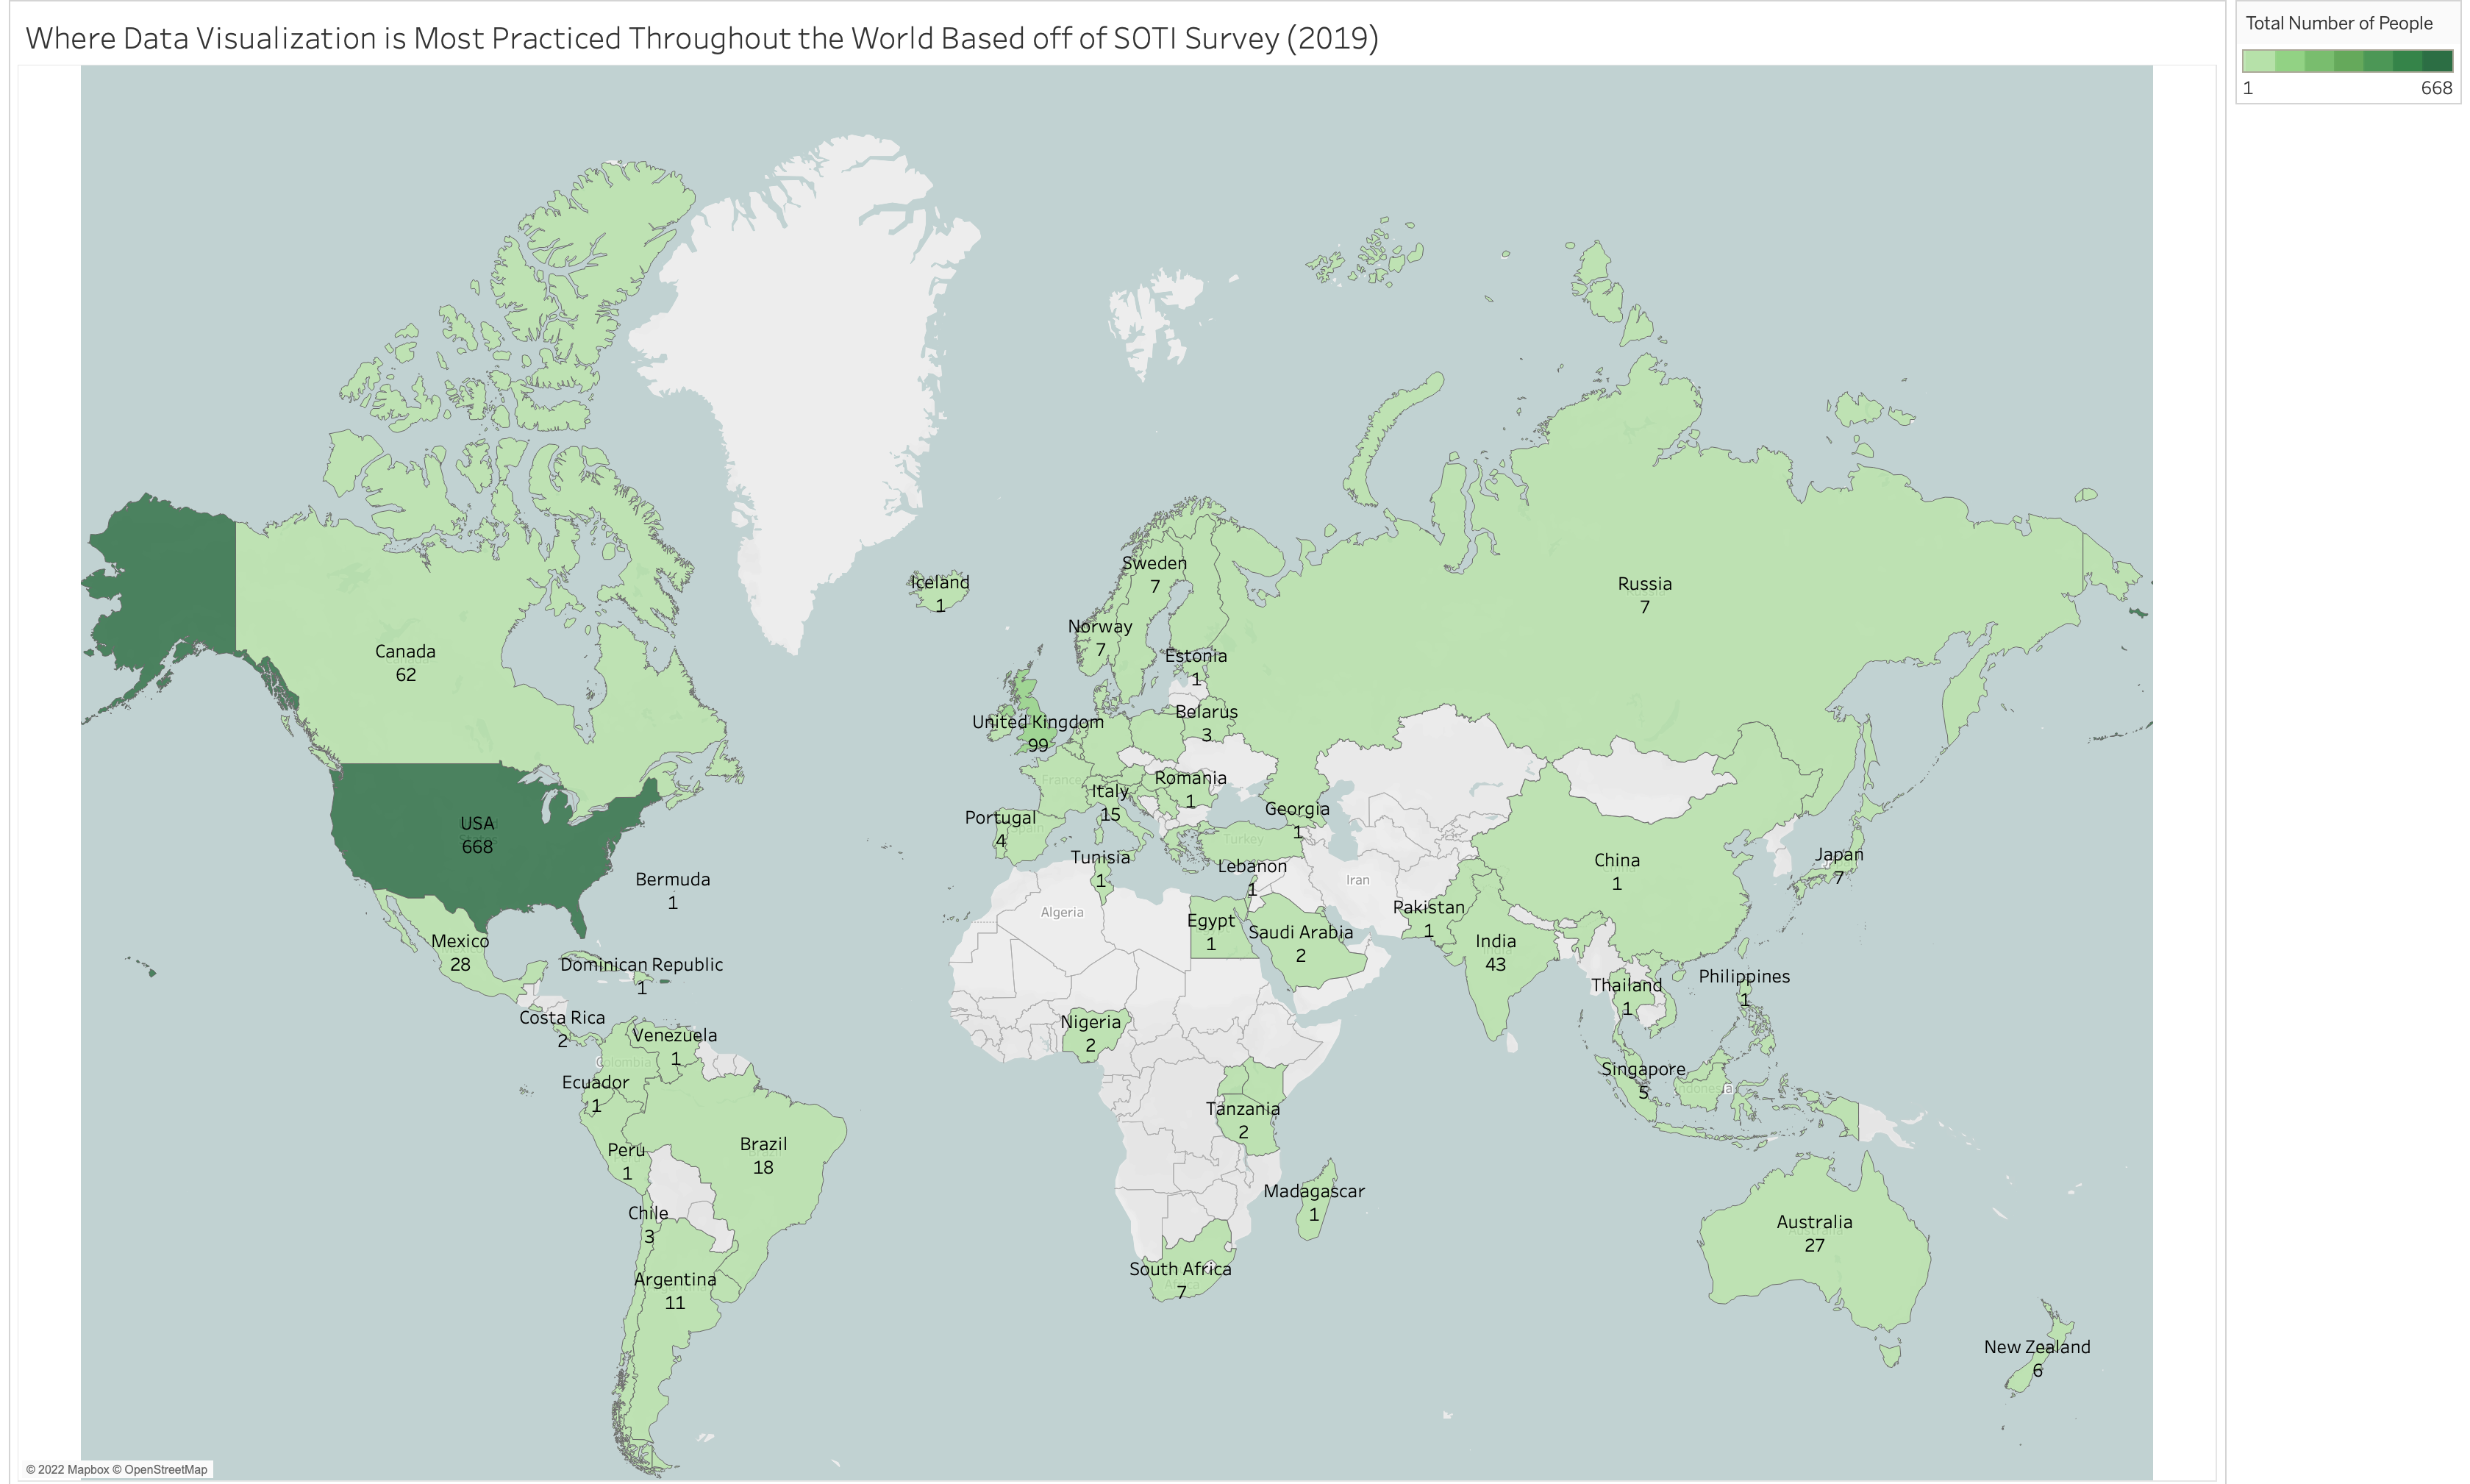

This screenshot's page, from the dashboard's own definition file:
{"tool":"tableau","page":{"name":"Dashboard 1","canvas":[1000,800],"ordinal":0},"visuals":[{"type":"worksheet","title":"Sheet 2","mark":"Automatic","cols":["RoleMultichoice"],"box":[8,8,824,784]},{"type":"legend","title":"Sheet 2","param":"[federated.065012m12chdym10juw4k0op4jla].[none:PayAnnual:nk]","box":[832,8,160,261]}]}

Visuals, with their boxes in screenshot pixels (x1, y1, x2, y2):
"Sheet 2" worksheet: <bbox>638, 34, 2148, 1470</bbox>
"Sheet 2" legend: <bbox>2148, 34, 2441, 512</bbox>
